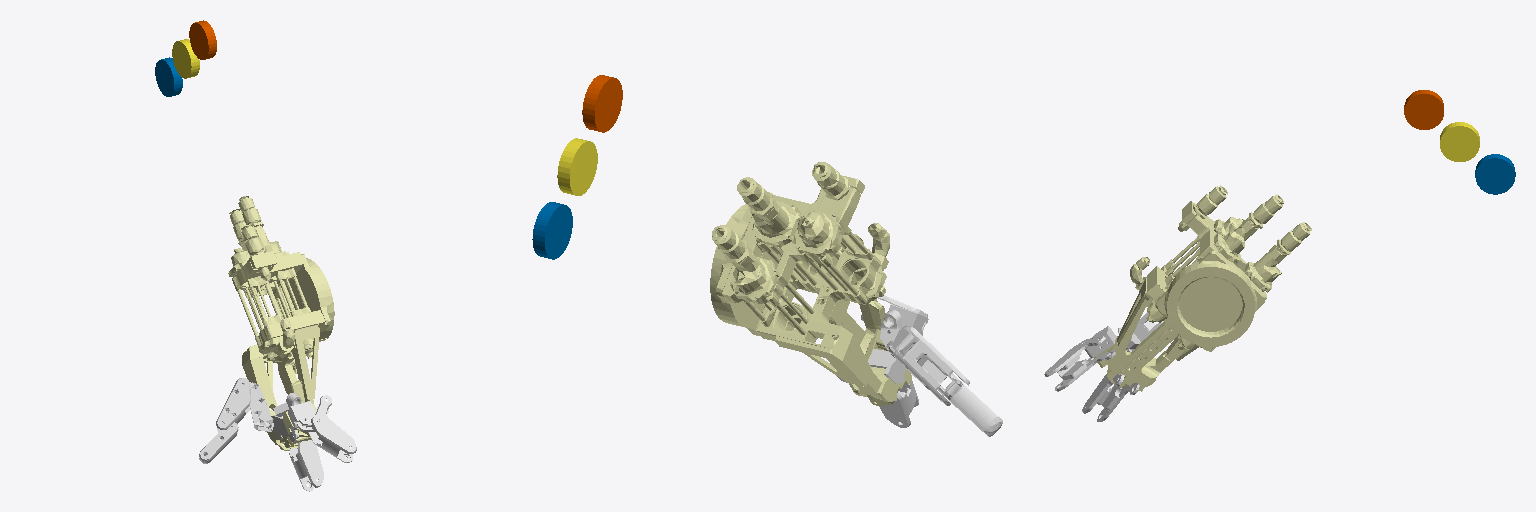
--- What the picture shows (computed from the rendered views, not written in the file) ---
3 views of the same robot in one strip: view 1: azimuth 30°, elevation 25°; view 2: azimuth 150°, elevation 25°; view 3: azimuth 270°, elevation 25° (orthographic).
Model panda with 30 links and 29 joints (17 revolute, 12 fixed), rooted at panda_link0, posed joints at zero except 4 at the middle of their limits (panda_joint4 = -1.57, right_thumb_knuckle_joint = -0.3332, right_thumb_finger_joint = -0.2856, right_thumb_swivel_joint = 1.14, right_index_knuckle_joint = -0.4779, right_index_fingertip_joint = -0.476).
Visible links, largest first — view 1: right_gripper_base, right_middle_knuckle, right_index_knuckle, right_thumb_knuckle, right_index_base_connector, right_index_flex_motor, right_thumb_flex_motor, right_thumb_swivel_motor, right_thumb_base, right_thumb_finger; view 2: right_gripper_base, right_thumb_knuckle, right_thumb_flex_motor, right_index_flex_motor, right_thumb_swivel_motor, right_thumb_finger, right_index_base_connector, right_index_knuckle, right_thumb_base, right_thumb_swivel_link; view 3: right_gripper_base, right_middle_knuckle, right_thumb_swivel_motor, right_thumb_flex_motor, right_index_flex_motor, right_index_knuckle.
Link boxes in pixels (x1=…): right_gripper_base: x1=228, y1=196, x2=334, y2=450; right_middle_knuckle: x1=308, y1=395, x2=356, y2=462; right_index_knuckle: x1=289, y1=440, x2=323, y2=491; right_thumb_knuckle: x1=216, y1=378, x2=250, y2=432; right_index_base_connector: x1=271, y1=401, x2=319, y2=441; right_index_flex_motor: x1=189, y1=20, x2=216, y2=59; right_thumb_flex_motor: x1=172, y1=39, x2=199, y2=78; right_thumb_swivel_motor: x1=155, y1=57, x2=182, y2=96; right_thumb_base: x1=242, y1=382, x2=273, y2=431; right_thumb_finger: x1=199, y1=422, x2=238, y2=463; right_gripper_base: x1=710, y1=162, x2=911, y2=405; right_thumb_knuckle: x1=888, y1=326, x2=969, y2=405; right_thumb_flex_motor: x1=557, y1=138, x2=597, y2=195; right_index_flex_motor: x1=582, y1=75, x2=622, y2=132; right_thumb_swivel_motor: x1=532, y1=202, x2=572, y2=259; right_thumb_finger: x1=937, y1=373, x2=1002, y2=436; right_index_base_connector: x1=868, y1=304, x2=928, y2=383; right_index_knuckle: x1=837, y1=376, x2=918, y2=427; right_thumb_base: x1=886, y1=325, x2=928, y2=366; right_thumb_swivel_link: x1=880, y1=310, x2=901, y2=357; right_gripper_base: x1=1094, y1=185, x2=1311, y2=391; right_middle_knuckle: x1=1044, y1=336, x2=1115, y2=391; right_thumb_swivel_motor: x1=1475, y1=154, x2=1515, y2=194; right_thumb_flex_motor: x1=1440, y1=122, x2=1479, y2=161; right_index_flex_motor: x1=1404, y1=90, x2=1443, y2=129; right_index_knuckle: x1=1082, y1=374, x2=1139, y2=421.
Size in the robot's own frame: 0.1745 by 0.4684 by 0.39 metres.
8 mesh visuals loaded from 16 distinct referenced files (7 OBJ); not drawn: 10 (reference not matched to a file when rendering).

URDF robot description (panda):
<?xml version="1.0" ?>
<!-- =================================================================================== -->
<!-- |    This document was autogenerated by xacro from panda.urdf.xacro               | -->
<!-- |    EDITING THIS FILE BY HAND IS NOT RECOMMENDED                                 | -->
<!-- =================================================================================== -->
<robot name="panda">
  <!-- sub-link defining detailed meshes for collision with environment -->
  <link name="panda_link0">
    <visual>
      <geometry>
        <mesh filename="package://avatar_robot_description/meshes/visual/link0.dae"/>
      </geometry>
    </visual>
    <collision>
      <geometry>
        <mesh filename="package://avatar_robot_description/meshes/collision/link0.stl"/>
      </geometry>
    </collision>
  </link>
  <!-- sub-link defining coarse geometries of real robot's internal self-collision -->
  <link name="panda_link0_sc">
    <collision>
      <origin rpy="0 1.5707963267948966 0" xyz="-0.075 0 0.06"/>
      <geometry>
        <cylinder length="0.03" radius="0.09"/>
      </geometry>
    </collision>
    <collision>
      <origin xyz="-0.06 0 0.06"/>
      <geometry>
        <sphere radius="0.09"/>
      </geometry>
    </collision>
    <collision>
      <origin xyz="-0.09 0 0.06"/>
      <geometry>
        <sphere radius="0.09"/>
      </geometry>
    </collision>
  </link>
  <!-- fixed joint between both sub-links -->
  <joint name="panda_link0_sc_joint" type="fixed">
    <origin rpy="0 0 0"/>
    <parent link="panda_link0"/>
    <child link="panda_link0_sc"/>
  </joint>
  <!-- sub-link defining detailed meshes for collision with environment -->
  <link name="panda_link1">
    <visual>
      <geometry>
        <mesh filename="package://avatar_robot_description/meshes/visual/link1.dae"/>
      </geometry>
    </visual>
    <collision>
      <geometry>
        <mesh filename="package://avatar_robot_description/meshes/collision/link1.stl"/>
      </geometry>
    </collision>
  </link>
  <!-- sub-link defining coarse geometries of real robot's internal self-collision -->
  <link name="panda_link1_sc">
    <collision>
      <origin rpy="0 0 0" xyz="0 0 -0.1915"/>
      <geometry>
        <cylinder length="0.283" radius="0.09"/>
      </geometry>
    </collision>
    <collision>
      <origin xyz="0 0 -0.05000000000000002"/>
      <geometry>
        <sphere radius="0.09"/>
      </geometry>
    </collision>
    <collision>
      <origin xyz="0 0 -0.33299999999999996"/>
      <geometry>
        <sphere radius="0.09"/>
      </geometry>
    </collision>
  </link>
  <!-- fixed joint between both sub-links -->
  <joint name="panda_link1_sc_joint" type="fixed">
    <origin rpy="0 0 0"/>
    <parent link="panda_link1"/>
    <child link="panda_link1_sc"/>
  </joint>
  <joint name="panda_joint1" type="revolute">
    <origin rpy="0 0 0" xyz="0 0 0.333"/>
    <parent link="panda_link0"/>
    <child link="panda_link1"/>
    <axis xyz="0 0 1"/>
    <limit effort="87.0" lower="-2.8973" upper="2.8973" velocity="2.175"/>
    <safety_controller k_position="100.0" k_velocity="40.0" soft_lower_limit="-2.8973" soft_upper_limit="2.8973"/>
    <dynamics D="1" K="7000" damping="0.003" friction="0.0" mu_coulomb="0" mu_viscous="16"/>
  </joint>
  <!-- sub-link defining detailed meshes for collision with environment -->
  <link name="panda_link2">
    <visual>
      <geometry>
        <mesh filename="package://avatar_robot_description/meshes/visual/link2.dae"/>
      </geometry>
    </visual>
    <collision>
      <geometry>
        <mesh filename="package://avatar_robot_description/meshes/collision/link2.stl"/>
      </geometry>
    </collision>
  </link>
  <!-- sub-link defining coarse geometries of real robot's internal self-collision -->
  <link name="panda_link2_sc">
    <collision>
      <origin rpy="0 0 0" xyz="0 0 0"/>
      <geometry>
        <cylinder length="0.12" radius="0.09"/>
      </geometry>
    </collision>
    <collision>
      <origin xyz="0 0 0.06"/>
      <geometry>
        <sphere radius="0.09"/>
      </geometry>
    </collision>
    <collision>
      <origin xyz="0 0 -0.06"/>
      <geometry>
        <sphere radius="0.09"/>
      </geometry>
    </collision>
  </link>
  <!-- fixed joint between both sub-links -->
  <joint name="panda_link2_sc_joint" type="fixed">
    <origin rpy="0 0 0"/>
    <parent link="panda_link2"/>
    <child link="panda_link2_sc"/>
  </joint>
  <joint name="panda_joint2" type="revolute">
    <origin rpy="-1.5707963267948966 0 0" xyz="0 0 0"/>
    <parent link="panda_link1"/>
    <child link="panda_link2"/>
    <axis xyz="0 0 1"/>
    <limit effort="87.0" lower="-1.7628" upper="1.7628" velocity="2.175"/>
    <safety_controller k_position="100.0" k_velocity="40.0" soft_lower_limit="-1.7628" soft_upper_limit="1.7628"/>
    <dynamics D="1" K="7000" damping="0.003" friction="0.0" mu_coulomb="0" mu_viscous="16"/>
  </joint>
  <!-- sub-link defining detailed meshes for collision with environment -->
  <link name="panda_link3">
    <visual>
      <geometry>
        <mesh filename="package://avatar_robot_description/meshes/visual/link3.dae"/>
      </geometry>
    </visual>
    <collision>
      <geometry>
        <mesh filename="package://avatar_robot_description/meshes/collision/link3.stl"/>
      </geometry>
    </collision>
  </link>
  <!-- sub-link defining coarse geometries of real robot's internal self-collision -->
  <link name="panda_link3_sc">
    <collision>
      <origin rpy="0 0 0" xyz="0 0 -0.145"/>
      <geometry>
        <cylinder length="0.15" radius="0.09"/>
      </geometry>
    </collision>
    <collision>
      <origin xyz="0 0 -0.06999999999999999"/>
      <geometry>
        <sphere radius="0.09"/>
      </geometry>
    </collision>
    <collision>
      <origin xyz="0 0 -0.21999999999999997"/>
      <geometry>
        <sphere radius="0.09"/>
      </geometry>
    </collision>
  </link>
  <!-- fixed joint between both sub-links -->
  <joint name="panda_link3_sc_joint" type="fixed">
    <origin rpy="0 0 0"/>
    <parent link="panda_link3"/>
    <child link="panda_link3_sc"/>
  </joint>
  <joint name="panda_joint3" type="revolute">
    <origin rpy="1.5707963267948966 0 0" xyz="0 -0.316 0"/>
    <parent link="panda_link2"/>
    <child link="panda_link3"/>
    <axis xyz="0 0 1"/>
    <limit effort="87.0" lower="-2.8973" upper="2.8973" velocity="2.175"/>
    <safety_controller k_position="100.0" k_velocity="40.0" soft_lower_limit="-2.8973" soft_upper_limit="2.8973"/>
    <dynamics D="1" K="7000" damping="0.003" friction="0.0" mu_coulomb="0" mu_viscous="16"/>
  </joint>
  <!-- sub-link defining detailed meshes for collision with environment -->
  <link name="panda_link4">
    <visual>
      <geometry>
        <mesh filename="package://avatar_robot_description/meshes/visual/link4.dae"/>
      </geometry>
    </visual>
    <collision>
      <geometry>
        <mesh filename="package://avatar_robot_description/meshes/collision/link4.stl"/>
      </geometry>
    </collision>
  </link>
  <!-- sub-link defining coarse geometries of real robot's internal self-collision -->
  <link name="panda_link4_sc">
    <collision>
      <origin rpy="0 0 0" xyz="0 0 0"/>
      <geometry>
        <cylinder length="0.12" radius="0.09"/>
      </geometry>
    </collision>
    <collision>
      <origin xyz="0 0 0.06"/>
      <geometry>
        <sphere radius="0.09"/>
      </geometry>
    </collision>
    <collision>
      <origin xyz="0 0 -0.06"/>
      <geometry>
        <sphere radius="0.09"/>
      </geometry>
    </collision>
  </link>
  <!-- fixed joint between both sub-links -->
  <joint name="panda_link4_sc_joint" type="fixed">
    <origin rpy="0 0 0"/>
    <parent link="panda_link4"/>
    <child link="panda_link4_sc"/>
  </joint>
  <joint name="panda_joint4" type="revolute">
    <origin rpy="1.5707963267948966 0 0" xyz="0.0825 0 0"/>
    <parent link="panda_link3"/>
    <child link="panda_link4"/>
    <axis xyz="0 0 1"/>
    <limit effort="87.0" lower="-3.0718" upper="-0.0698" velocity="2.175"/>
    <safety_controller k_position="100.0" k_velocity="40.0" soft_lower_limit="-3.0718" soft_upper_limit="-0.0698"/>
    <dynamics D="1" K="7000" damping="0.003" friction="0.0" mu_coulomb="0" mu_viscous="16"/>
  </joint>
  <!-- sub-link defining detailed meshes for collision with environment -->
  <link name="panda_link5">
    <visual>
      <geometry>
        <mesh filename="package://avatar_robot_description/meshes/visual/link5.dae"/>
      </geometry>
    </visual>
    <collision>
      <geometry>
        <mesh filename="package://avatar_robot_description/meshes/collision/link5.stl"/>
      </geometry>
    </collision>
  </link>
  <!-- sub-link defining coarse geometries of real robot's internal self-collision -->
  <link name="panda_link5_sc">
    <collision>
      <origin rpy="0 0 0" xyz="0 0 -0.26"/>
      <geometry>
        <cylinder length="0.1" radius="0.09"/>
      </geometry>
    </collision>
    <collision>
      <origin xyz="0 0 -0.21000000000000002"/>
      <geometry>
        <sphere radius="0.09"/>
      </geometry>
    </collision>
    <collision>
      <origin xyz="0 0 -0.31"/>
      <geometry>
        <sphere radius="0.09"/>
      </geometry>
    </collision>
    <collision>
      <origin rpy="0 0 0.08" xyz="0 0.08 -0.13"/>
      <geometry>
        <cylinder length="0.14" radius="0.055"/>
      </geometry>
    </collision>
    <collision>
      <origin xyz="0 0.08 -0.06"/>
      <geometry>
        <sphere radius="0.055"/>
      </geometry>
    </collision>
    <collision>
      <origin xyz="0 0.08 -0.2"/>
      <geometry>
        <sphere radius="0.055"/>
      </geometry>
    </collision>
  </link>
  <!-- fixed joint between both sub-links -->
  <joint name="panda_link5_sc_joint" type="fixed">
    <origin rpy="0 0 0"/>
    <parent link="panda_link5"/>
    <child link="panda_link5_sc"/>
  </joint>
  <joint name="panda_joint5" type="revolute">
    <origin rpy="-1.5707963267948966 0 0" xyz="-0.0825 0.384 0"/>
    <parent link="panda_link4"/>
    <child link="panda_link5"/>
    <axis xyz="0 0 1"/>
    <limit effort="12.0" lower="-2.8973" upper="2.8973" velocity="2.61"/>
    <safety_controller k_position="100.0" k_velocity="40.0" soft_lower_limit="-2.8973" soft_upper_limit="2.8973"/>
    <dynamics D="1" K="7000" damping="0.003" friction="0.0" mu_coulomb="0" mu_viscous="16"/>
  </joint>
  <!-- sub-link defining detailed meshes for collision with environment -->
  <link name="panda_link6">
    <visual>
      <geometry>
        <mesh filename="package://avatar_robot_description/meshes/visual/link6.dae"/>
      </geometry>
    </visual>
    <collision>
      <geometry>
        <mesh filename="package://avatar_robot_description/meshes/collision/link6.stl"/>
      </geometry>
    </collision>
  </link>
  <!-- sub-link defining coarse geometries of real robot's internal self-collision -->
  <link name="panda_link6_sc">
    <collision>
      <origin rpy="0 0 0" xyz="0 0 -0.03"/>
      <geometry>
        <cylinder length="0.08" radius="0.08"/>
      </geometry>
    </collision>
    <collision>
      <origin xyz="0 0 0.010000000000000002"/>
      <geometry>
        <sphere radius="0.08"/>
      </geometry>
    </collision>
    <collision>
      <origin xyz="0 0 -0.07"/>
      <geometry>
        <sphere radius="0.08"/>
      </geometry>
    </collision>
  </link>
  <!-- fixed joint between both sub-links -->
  <joint name="panda_link6_sc_joint" type="fixed">
    <origin rpy="0 0 0"/>
    <parent link="panda_link6"/>
    <child link="panda_link6_sc"/>
  </joint>
  <joint name="panda_joint6" type="revolute">
    <origin rpy="1.5707963267948966 0 0" xyz="0 0 0"/>
    <parent link="panda_link5"/>
    <child link="panda_link6"/>
    <axis xyz="0 0 1"/>
    <limit effort="12.0" lower="-0.0175" upper="3.7525" velocity="2.61"/>
    <safety_controller k_position="100.0" k_velocity="40.0" soft_lower_limit="-0.0175" soft_upper_limit="3.7525"/>
    <dynamics D="1" K="7000" damping="0.003" friction="0.0" mu_coulomb="0" mu_viscous="16"/>
  </joint>
  <!-- sub-link defining detailed meshes for collision with environment -->
  <link name="panda_link7">
    <visual>
      <geometry>
        <mesh filename="package://avatar_robot_description/meshes/visual/link7.dae"/>
      </geometry>
    </visual>
    <collision>
      <geometry>
        <mesh filename="package://avatar_robot_description/meshes/collision/link7.stl"/>
      </geometry>
    </collision>
  </link>
  <!-- sub-link defining coarse geometries of real robot's internal self-collision -->
  <link name="panda_link7_sc">
    <collision>
      <origin rpy="0 0 0" xyz="0 0 0.01"/>
      <geometry>
        <cylinder length="0.14" radius="0.07"/>
      </geometry>
    </collision>
    <collision>
      <origin xyz="0 0 0.08"/>
      <geometry>
        <sphere radius="0.07"/>
      </geometry>
    </collision>
    <collision>
      <origin xyz="0 0 -0.060000000000000005"/>
      <geometry>
        <sphere radius="0.07"/>
      </geometry>
    </collision>
    <collision>
      <origin rpy="0 1.5707963267948966 0" xyz="0.06 0 0.082"/>
      <geometry>
        <cylinder length="0.01" radius="0.06"/>
      </geometry>
    </collision>
    <collision>
      <origin xyz="0.065 0 0.082"/>
      <geometry>
        <sphere radius="0.06"/>
      </geometry>
    </collision>
    <collision>
      <origin xyz="0.055 0 0.082"/>
      <geometry>
        <sphere radius="0.06"/>
      </geometry>
    </collision>
  </link>
  <!-- fixed joint between both sub-links -->
  <joint name="panda_link7_sc_joint" type="fixed">
    <origin rpy="0 0 0.7853981633974483"/>
    <parent link="panda_link7"/>
    <child link="panda_link7_sc"/>
  </joint>
  <joint name="panda_joint7" type="revolute">
    <origin rpy="1.5707963267948966 0 0" xyz="0.088 0 0"/>
    <parent link="panda_link6"/>
    <child link="panda_link7"/>
    <axis xyz="0 0 1"/>
    <limit effort="12.0" lower="-2.8973" upper="2.8973" velocity="2.61"/>
    <safety_controller k_position="100.0" k_velocity="40.0" soft_lower_limit="-2.8973" soft_upper_limit="2.8973"/>
    <dynamics D="1" K="7000" damping="0.003" friction="0.0" mu_coulomb="0" mu_viscous="16"/>
  </joint>
  <link name="panda_link8"/>
  <joint name="panda_joint8" type="fixed">
    <origin rpy="0 0 0" xyz="0 0 0.107"/>
    <parent link="panda_link7"/>
    <child link="panda_link8"/>
  </joint>
  <link name="right_thumb_base">
    <inertial>
      <mass value="0.5"/>
      <inertia ixx="0.0" ixy="0.0" ixz="0.0" iyy="4E-5" iyz="0.0" izz="4E-5"/>
    </inertial>
    <visual>
      <origin rpy="0 0 0" xyz="0 0 0"/>
      <geometry>
        <mesh filename="package://avatar_gripper_description/meshes/thumb_base_extra.obj"/>
      </geometry>
      <material name="">
        <color rgba="0.9 0.9 0.9 1"/>
      </material>
    </visual>
    <collision>
      <origin rpy="0 0 0" xyz="0 0 0"/>
      <geometry>
        <mesh filename="package://avatar_gripper_description/meshes/thumb_base_extra.obj"/>
      </geometry>
    </collision>
  </link>
  <link name="right_thumb_knuckle">
    <inertial>
      <mass value="0.5"/>
      <inertia ixx="0.0" ixy="0.0" ixz="0.0" iyy="4E-5" iyz="0.0" izz="4E-5"/>
    </inertial>
    <visual>
      <origin rpy="0 0 0" xyz="0 0 0"/>
      <geometry>
        <mesh filename="package://avatar_gripper_description/meshes/thumb_knuckle.obj"/>
      </geometry>
      <material name="">
        <color rgba="0.9 0.9 0.9 1"/>
      </material>
    </visual>
    <collision>
      <origin rpy="0 0 0" xyz="0 0 0"/>
      <geometry>
        <mesh filename="package://avatar_gripper_description/meshes/thumb_knuckle.obj"/>
      </geometry>
    </collision>
  </link>
  <joint name="right_thumb_knuckle_joint" type="revolute">
    <origin rpy="0 2.75 0" xyz="0 0 0"/>
    <parent link="right_thumb_base"/>
    <child link="right_thumb_knuckle"/>
    <axis xyz="0 1 0"/>
    <limit effort="1000" lower="-1.0" upper="0.4" velocity="2.0"/>
    <mimic joint="right_thumb_flex_motor_joint" multiplier="0.28" offset="0"/>
  </joint>
  <link name="right_thumb_finger">
    <inertial>
      <mass value="0.5"/>
      <inertia ixx="0.0" ixy="0.0" ixz="0.0" iyy="4E-5" iyz="0.0" izz="4E-5"/>
    </inertial>
    <visual>
      <origin rpy="0 0 0" xyz="0 0 0"/>
      <geometry>
        <mesh filename="package://avatar_gripper_description/meshes/thumb_fingertip.obj"/>
      </geometry>
      <material name="">
        <color rgba="0.9 0.9 0.9 1"/>
      </material>
    </visual>
    <collision>
      <origin rpy="0 0 0" xyz="0 0 0"/>
      <geometry>
        <mesh filename="package://avatar_gripper_description/meshes/thumb_fingertip.obj"/>
      </geometry>
    </collision>
  </link>
  <joint name="right_thumb_finger_joint" type="revolute">
    <origin rpy="0 0.57 0" xyz="0.04568 0 0.01106"/>
    <parent link="right_thumb_knuckle"/>
    <child link="right_thumb_finger"/>
    <axis xyz="0 1 0"/>
    <limit effort="1000" lower="-0.8" upper="0" velocity="2.0"/>
    <mimic joint="right_thumb_flex_motor_joint" multiplier="0.24" offset="0"/>
  </joint>
  <link name="right_thumb_swivel_link">
    <visual>
      <origin rpy="0 0 0" xyz="0 0 0"/>
      <geometry>
        <mesh filename="package://avatar_gripper_description/meshes/thumb_swivel_link.obj"/>
      </geometry>
      <material name="">
        <color rgba="0.9 0.9 0.9 1"/>
      </material>
    </visual>
  </link>
  <joint name="right_thumb_swivel_joint" type="revolute">
    <origin rpy="0 0 0" xyz="0 0 0.0173"/>
    <parent link="right_index_base_connector"/>
    <child link="right_thumb_swivel_link"/>
    <axis xyz="0 0 1"/>
    <limit effort="1000" lower="0" upper="1.7" velocity="2.0"/>
    <mimic joint="right_thumb_swivel_motor_joint" multiplier="-0.6075" offset="0.43"/>
  </joint>
  <joint name="right_thumb_base_swivel_joint" type="fixed">
    <origin rpy="0 0 0" xyz="-0.03742 0 0.05089"/>
    <parent link="right_thumb_swivel_link"/>
    <child link="right_thumb_base"/>
  </joint>
  <link name="right_index_base_connector">
    <visual>
      <origin rpy="0 0 0" xyz="0 0 0"/>
      <geometry>
        <mesh filename="package://avatar_gripper_description/meshes/index_base_connector.obj"/>
      </geometry>
      <material name="">
        <color rgba="0.9 0.9 0.9 1"/>
      </material>
    </visual>
  </link>
  <link name="right_index_knuckle">
    <inertial>
      <mass value="0.5"/>
      <inertia ixx="0.0" ixy="0.0" ixz="0.0" iyy="4E-5" iyz="0.0" izz="4E-5"/>
    </inertial>
    <visual>
      <origin rpy="0 0 0" xyz="0 0 0"/>
      <geometry>
        <mesh filename="package://avatar_gripper_description/meshes/index_knuckle.obj"/>
      </geometry>
      <material name="">
        <color rgba="0.9 0.9 0.9 1"/>
      </material>
    </visual>
    <collision>
      <origin rpy="0 0 0" xyz="0 0 0"/>
      <geometry>
        <mesh filename="package://avatar_gripper_description/meshes/index_knuckle.obj"/>
      </geometry>
    </collision>
  </link>
  <joint name="right_index_knuckle_joint" type="revolute">
    <origin rpy="1.94428593 1.07478656 1.98996937" xyz="-0.021564878 0.008545 -0.0024358"/>
    <parent link="right_index_base_connector"/>
    <child link="right_index_knuckle"/>
    <axis xyz="0 0 1"/>
    <limit effort="1000" lower="-0.8" upper="0" velocity="2.0"/>
    <mimic joint="right_index_flex_motor_joint" multiplier="0.4016" offset="0"/>
  </joint>
  <link name="right_index_fingertip">
    <inertial>
      <mass value="0.5"/>
      <inertia ixx="0.0" ixy="0.0" ixz="0.0" iyy="4E-5" iyz="0.0" izz="4E-5"/>
    </inertial>
    <visual>
      <origin rpy="0 0 0" xyz="0 0 0"/>
      <geometry>
        <mesh filename="package://avatar_gripper_description/meshes/index_fingertip.obj"/>
      </geometry>
      <material name="">
        <color rgba="0.9 0.9 0.9 1"/>
      </material>
    </visual>
    <collision>
      <origin rpy="0 0 0" xyz="0 0 0"/>
      <geometry>
        <mesh filename="package://avatar_gripper_description/meshes/index_fingertip.obj"/>
      </geometry>
    </collision>
  </link>
  <joint name="right_index_fingertip_joint" type="revolute">
    <origin rpy="0 0 -0.35" xyz="0.0353829 -0.02780 0"/>
    <parent link="right_index_knuckle"/>
    <child link="right_index_fingertip"/>
    <axis xyz="0 0 1"/>
    <limit effort="1000" lower="-0.8" upper="0" velocity="2.0"/>
    <mimic joint="right_index_flex_motor_joint" multiplier="0.4" offset="0"/>
  </joint>
  <link name="right_middle_knuckle">
    <inertial>
      <mass value="0.5"/>
      <inertia ixx="0.0" ixy="0.0" ixz="0.0" iyy="4E-5" iyz="0.0" izz="4E-5"/>
    </inertial>
    <visual>
      <origin rpy="0 0 0" xyz="0 0 0"/>
      <geometry>
        <mesh filename="package://avatar_gripper_description/meshes/index_knuckle.obj"/>
      </geometry>
      <material name="">
        <color rgba="0.9 0.9 0.9 1"/>
      </material>
    </visual>
    <collision>
      <origin rpy="0 0 0" xyz="0 0 0"/>
      <geometry>
        <mesh filename="package://avatar_gripper_description/meshes/index_knuckle.obj"/>
      </geometry>
    </collision>
  </link>
  <joint name="right_middle_knuckle_joint" type="revolute">
    <origin rpy="1.19730672 1.07478656 1.15162329" xyz="0.02156 0.008545 -0.0024358"/>
    <parent link="right_index_base_connector"/>
    <child link="right_middle_knuckle"/>
    <axis xyz="0 0 1"/>
    <limit effort="1000" lower="-0.8" upper="0" velocity="2.0"/>
    <mimic joint="right_index_knuckle_joint" multiplier="1" offset="0"/>
  </joint>
  <link name="right_middle_fingertip">
    <inertial>
      <mass value="0.5"/>
      <inertia ixx="0.0" ixy="0.0" ixz="0.0" iyy="4E-5" iyz="0.0" izz="4E-5"/>
    </inertial>
    <visual>
      <origin rpy="0 0 0" xyz="0 0 0"/>
      <geometry>
        <mesh filename="package://avatar_gripper_description/meshes/index_fingertip.obj"/>
      </geometry>
      <material name="">
        <color rgba="0.9 0.9 0.9 1"/>
      </material>
    </visual>
    <collision>
      <origin rpy="0 0 0" xyz="0 0 0"/>
      <geometry>
        <mesh filename="package://avatar_gripper_description/meshes/index_fingertip.obj"/>
      </geometry>
    </collision>
  </link>
  <joint name="right_middle_fingertip_joint" type="revolute">
    <origin rpy="0 0 -0.35" xyz="0.0353829 -0.02780 0"/>
    <parent link="right_middle_knuckle"/>
    <child link="right_middle_fingertip"/>
    <axis xyz="0 0 1"/>
    <limit effort="1000" lower="-0.8" upper="0" velocity="2.0"/>
    <mimic joint="right_index_fingertip_joint" multiplier="1" offset="0"/>
  </joint>
  <link name="right_gripper_base">
    <inertial>
      <mass value="2.0"/>
      <inertia ixx="7.11E-3" ixy="0.0" ixz="0.0" iyy="7.11E-3" iyz="0.0" izz="7.11E-3"/>
    </inertial>
    <visual>
      <origin rpy="0 0 0" xyz="0 0 0"/>
      <geometry>
        <mesh filename="package://avatar_gripper_description/meshes/gripper_base.obj"/>
      </geometry>
      <material name="">
        <color rgba="0.9 0.9 0.7 1"/>
      </material>
    </visual>
  </link>
  <joint name="right_gripper_base_joint" type="fixed">
    <origin rpy="1.57 0 0" xyz="0.00736 0.139 -0.066017"/>
    <parent link="right_gripper_base"/>
    <child link="right_index_base_connector"/>
  </joint>
  <link name="right_thumb_flex_motor">
    <inertial>
      <mass value="0.25"/>
      <inertia ixx="1.463E-04" ixy="0" ixz="0" iyy="1.463E-04" iyz="0" izz="1.463E-04"/>
    </inertial>
    <visual>
      <origin rpy="0 0 0" xyz="0 0 0"/>
      <geometry>
        <cylinder length="0.01" radius="0.02"/>
      </geometry>
    </visual>
  </link>
  <joint name="right_thumb_flex_motor_joint" type="revolute">
    <origin rpy="0 0 0" xyz="-0.05 -0.3 0"/>
    <parent link="right_gripper_base"/>
    <child link="right_thumb_flex_motor"/>
    <axis xyz="0 0 1"/>
    <limit effort="1000" lower="-2.3" upper="-0.08" velocity="2.0"/>
  </joint>
  <link name="right_thumb_swivel_motor">
    <inertial>
      <mass value="0.25"/>
      <inertia ixx="1.463E-04" ixy="0" ixz="0" iyy="1.463E-04" iyz="0" izz="1.463E-04"/>
    </inertial>
    <visual>
      <origin rpy="0 0 0" xyz="0 0 0"/>
      <geometry>
        <cylinder length="0.01" radius="0.02"/>
      </geometry>
    </visual>
  </link>
  <joint name="right_thumb_swivel_motor_joint" type="revolute">
    <origin rpy="0 0 0" xyz="-0.1 -0.3 0"/>
    <parent link="right_gripper_base"/>
    <child link="right_thumb_swivel_motor"/>
    <axis xyz="0 0 1"/>
    <limit effort="1000" lower="-2.3" upper="-0.05" velocity="2.0"/>
  </joint>
  <link name="right_index_flex_motor">
    <inertial>
      <mass value="0.25"/>
      <inertia ixx="1.463E-04" ixy="0" ixz="0" iyy="1.463E-04" iyz="0" izz="1.463E-04"/>
    </inertial>
    <visual>
      <origin rpy="0 0 0" xyz="0 0 0"/>
      <geometry>
        <cylinder length="0.01" radius="0.02"/>
      </geometry>
    </visual>
  </link>
  <joint name="right_index_flex_motor_joint" type="revolute">
    <origin rpy="0 0 0" xyz="0 -0.3 0"/>
    <parent link="right_gripper_base"/>
    <child link="right_index_flex_motor"/>
    <axis xyz="0 0 1"/>
    <limit effort="1000" lower="-2.3" upper="-0.08" velocity="2.0"/>
  </joint>
  <joint name="panda_gripper_joint" type="fixed">
    <parent link="panda_link8"/>
    <child link="right_gripper_base"/>
    <origin rpy="0 3.141592653589793 -0.7853981633974483" xyz="0 0 0"/>
  </joint>
</robot>
